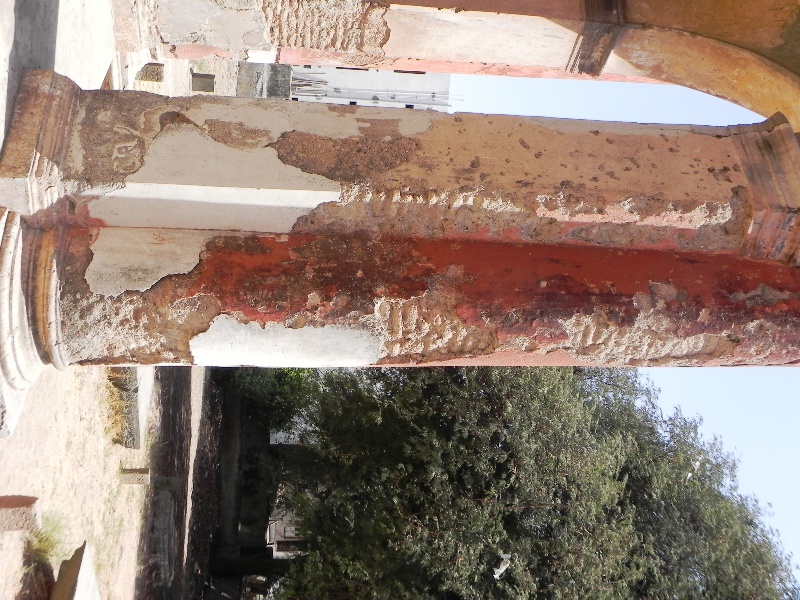Exposed Bricks: (381, 301, 492, 358), (262, 1, 378, 51), (564, 319, 707, 359), (359, 186, 474, 219)
Spalling: (56, 230, 238, 359), (266, 114, 428, 179)
